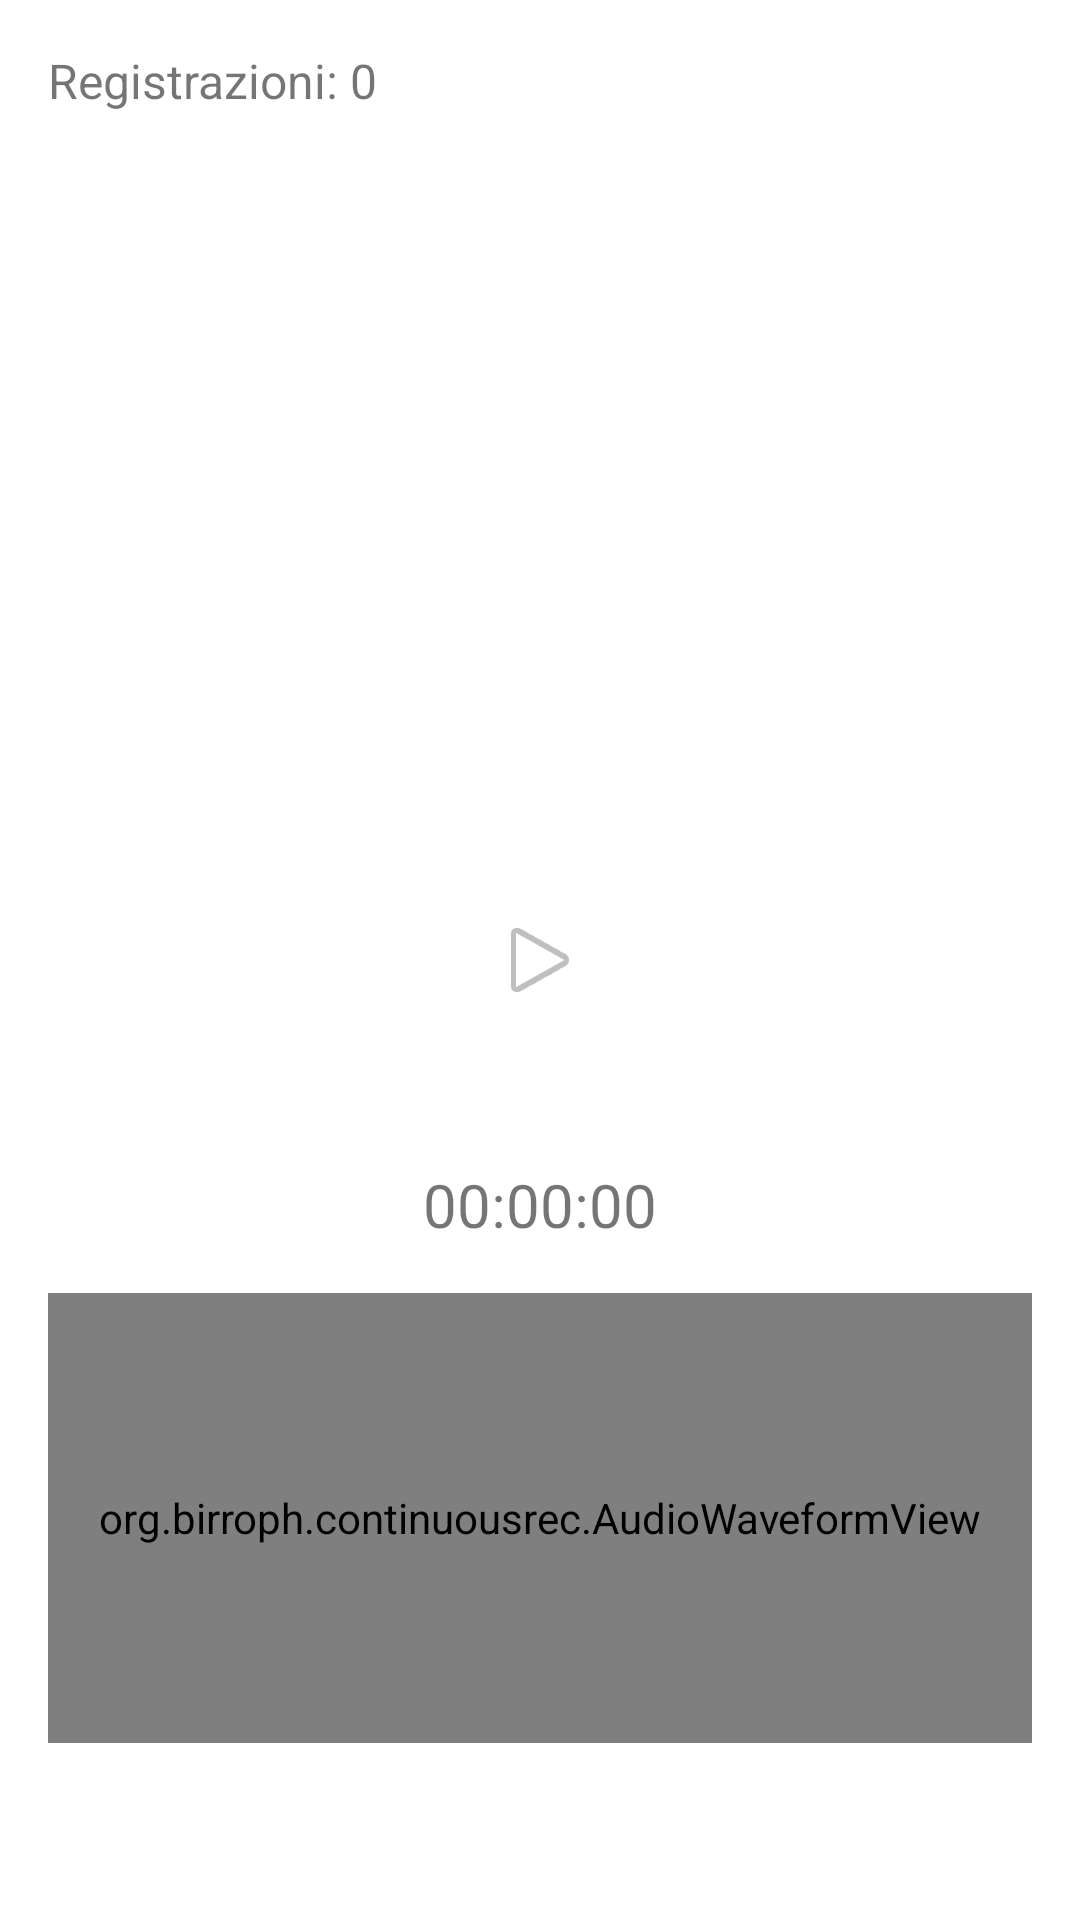

Locate icon controls on the screen. Image size 1080px x 1920px, boxes as rect(x1, y1, x2, y2).
play: rect(511, 928, 569, 992)
